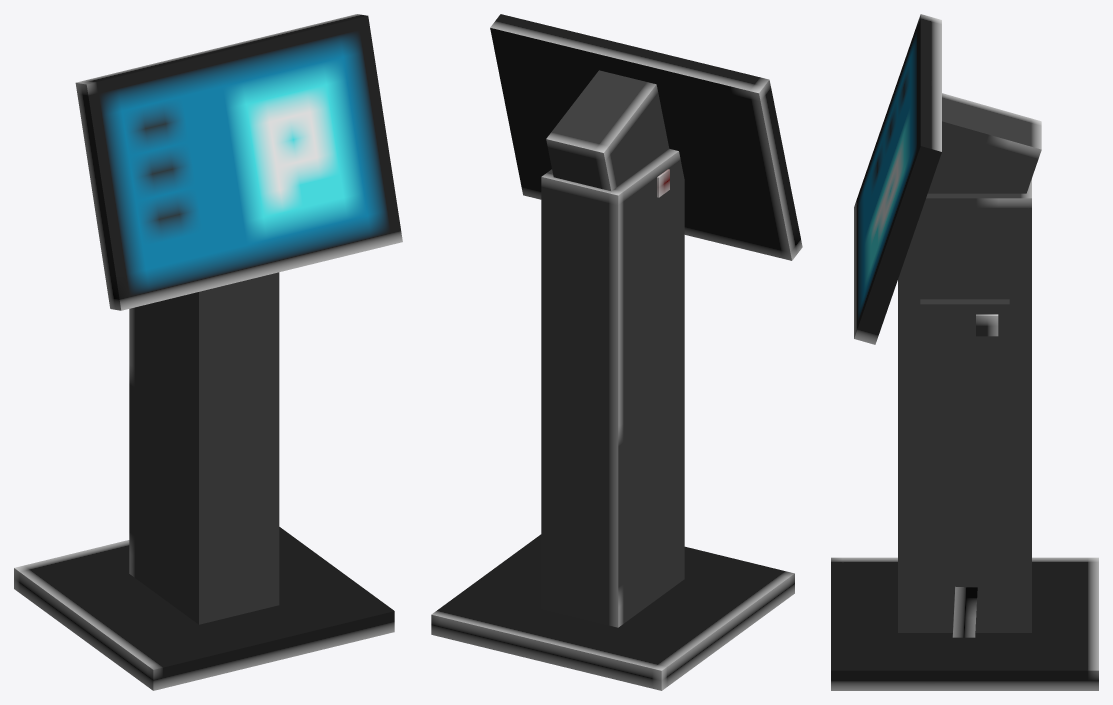
Rendered from ModelGarage.obj.
The picture shows the model from 3 angles, left to right: view 1: azimuth 30°, elevation 25°; view 2: azimuth 150°, elevation 25°; view 3: azimuth 270°, elevation 25°; orthographic projection. The views are drawn at different scales.
Bounding box in the file's own units: 0.875 × 1.71 × 0.75.
Materials: 1 (1 with a texture image).
